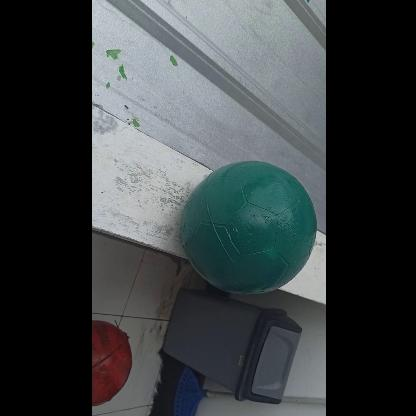green_ball: (180, 159, 316, 295)
